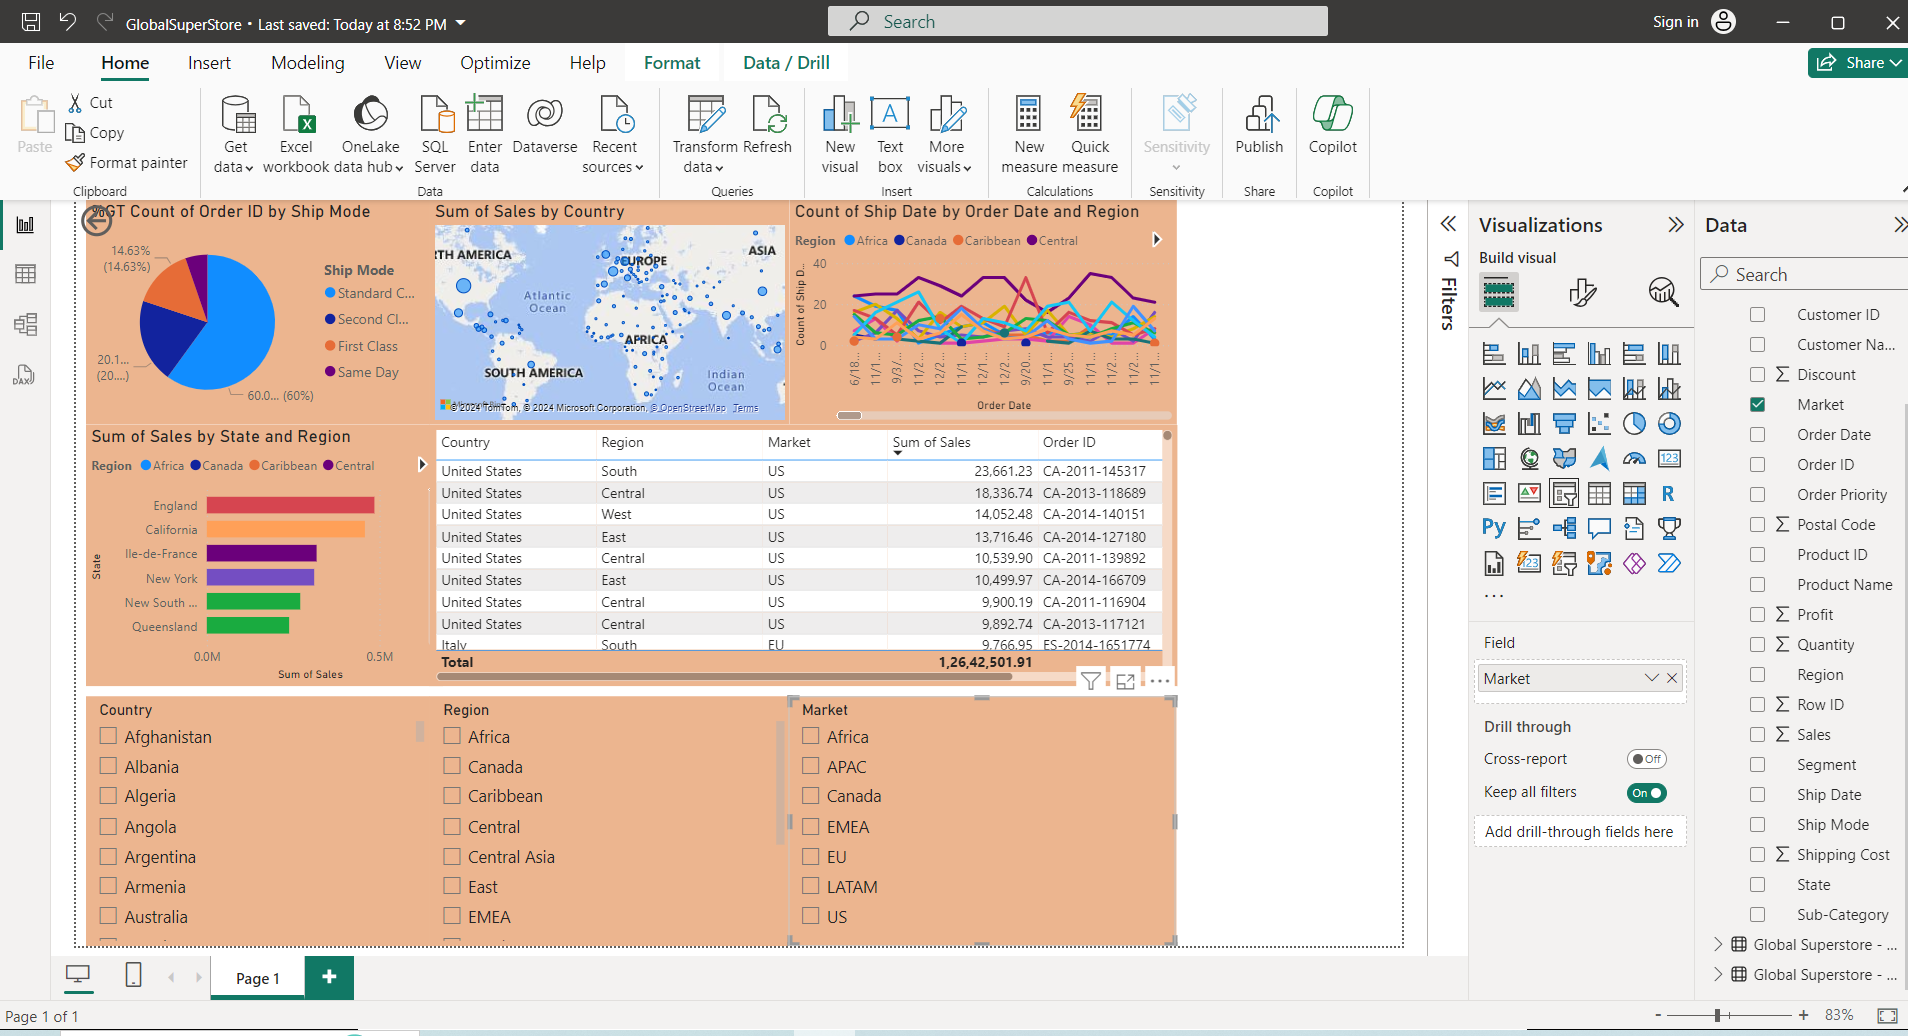

The page's visual inventory and layout, read from the dashboard file:
{"tool":"powerbi","page":{"name":"Page 1","canvas":[1280,720],"ordinal":0},"visuals":[{"type":"pieChart","fields":{"Category":["Global Superstore - Orders.Ship Mode"],"Y":["CountNonNull(Global Superstore - Orders.Order ID)"]},"box":[9.7,0,331.8,217.2],"z":0},{"type":"map","fields":{"Category":["Global Superstore - Orders.Country","Global Superstore - Orders.State"],"Size":["Sum(Global Superstore - Orders.Sales)"]},"box":[341.4,0,347.5,217.2],"z":1000},{"type":"lineChart","fields":{"Category":["Global Superstore - Orders.Order Date"],"Y":["CountNonNull(Global Superstore - Orders.Ship Date)"],"Series":["Global Superstore - Orders.Region"]},"box":[688.9,0,374,217.2],"z":2000},{"type":"barChart","fields":{"Category":["Global Superstore - Orders.State"],"Y":["Sum(Global Superstore - Orders.Sales)"],"Series":["Global Superstore - Orders.Region"]},"box":[9.7,217.2,343.8,252.1],"z":3000},{"type":"tableEx","fields":{"Values":["Global Superstore - Orders.Country","Global Superstore - Orders.Region","Global Superstore - Orders.Market","Sum(Global Superstore - Orders.Sales)","Global Superstore - Orders.Order ID"]},"box":[341.4,217.2,721.5,252.1],"z":4000},{"type":"actionButton","box":[0,0,100,40],"z":5000},{"type":"slicer","fields":{"Values":["Global Superstore - Orders.Country"]},"box":[9.7,479,331.8,241.3],"z":5001},{"type":"slicer","fields":{"Values":["Global Superstore - Orders.Region"]},"box":[341.4,479,347.5,241.3],"z":5002},{"type":"slicer","fields":{"Values":["Global Superstore - Orders.Market"]},"box":[688,479,374,241],"z":5003}]}

Visuals, with their boxes on the page's 1280x720 design canvas (x1, y1, x2, y2). These are canvas units, not pixel positions in the 1908x1036 screenshot, which may show the page scaled, cropped or inside an application window:
pieChart - Global Superstore - Orders.Ship Mode x CountNonNull(Global Superstore - Orders.Order ID): (10, 0, 342, 217)
map - Global Superstore - Orders.Country x Global Superstore - Orders.State: (341, 0, 689, 217)
lineChart - Global Superstore - Orders.Order Date x CountNonNull(Global Superstore - Orders.Ship Date): (689, 0, 1063, 217)
barChart - Global Superstore - Orders.State x Sum(Global Superstore - Orders.Sales): (10, 217, 354, 469)
tableEx - Global Superstore - Orders.Country x Global Superstore - Orders.Region: (341, 217, 1063, 469)
actionButton: (0, 0, 100, 40)
slicer - Global Superstore - Orders.Country: (10, 479, 342, 720)
slicer - Global Superstore - Orders.Region: (341, 479, 689, 720)
slicer - Global Superstore - Orders.Market: (688, 479, 1062, 720)
